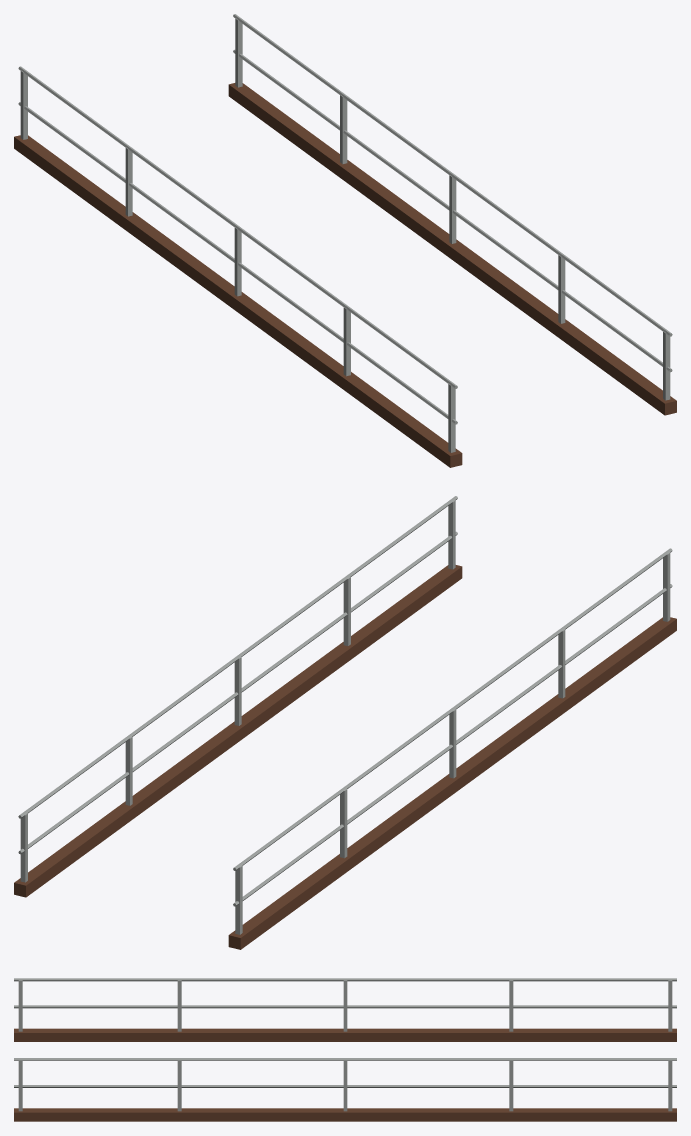
File: jetty_rail.glb
3 views of the same model, one above another, from view 1: azimuth 30°, elevation 25°; view 2: azimuth 150°, elevation 25°; view 3: azimuth 270°, elevation 25° (orthographic). The views are drawn at different scales.
Parts seen in each view (by area): view 1: JettyRail; view 2: JettyRail; view 3: JettyRail.
Boxes of the visible parts, x1=… form: JettyRail: x1=14, y1=14, x2=676, y2=467; JettyRail: x1=14, y1=496, x2=676, y2=949; JettyRail: x1=14, y1=978, x2=676, y2=1121.
Size of what is drawn, in the model's own units: 3 by 1.02 by 10.
